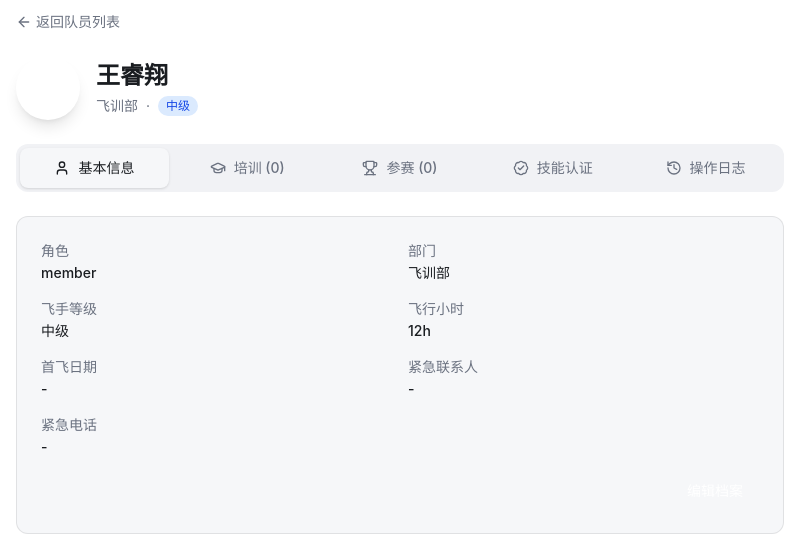
it: 队员档案 · 操作日志 › 管理员能看到该队员的操作日志，且按 userId 查
Expected: the heading "王睿翔" is shown, [96,61,168,90]
Click the button "操作日志". click: (706, 168)
box: [631,148,780,188]
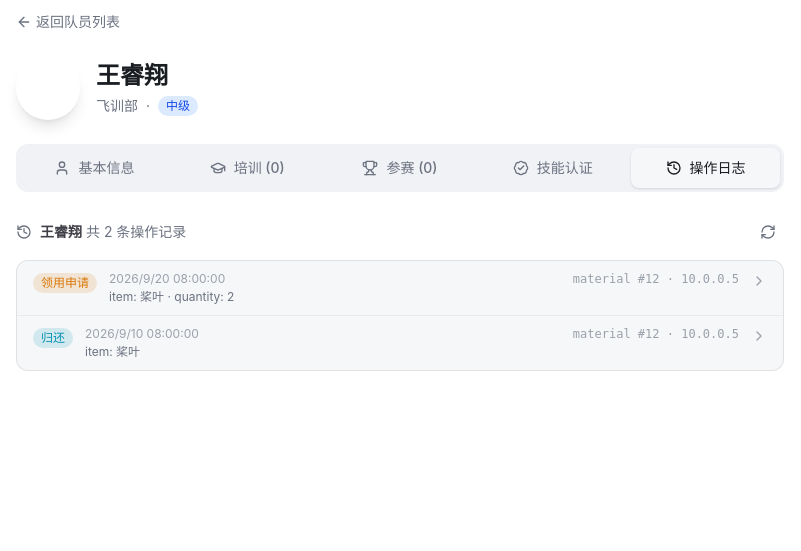
Result: the text "王睿翔 共 2 条操作记录" is shown at [40,222,186,242]
Result: the text "领用申请" is shown at [33,273,97,293]
Result: the text "归还" is shown at [33,328,73,348]
